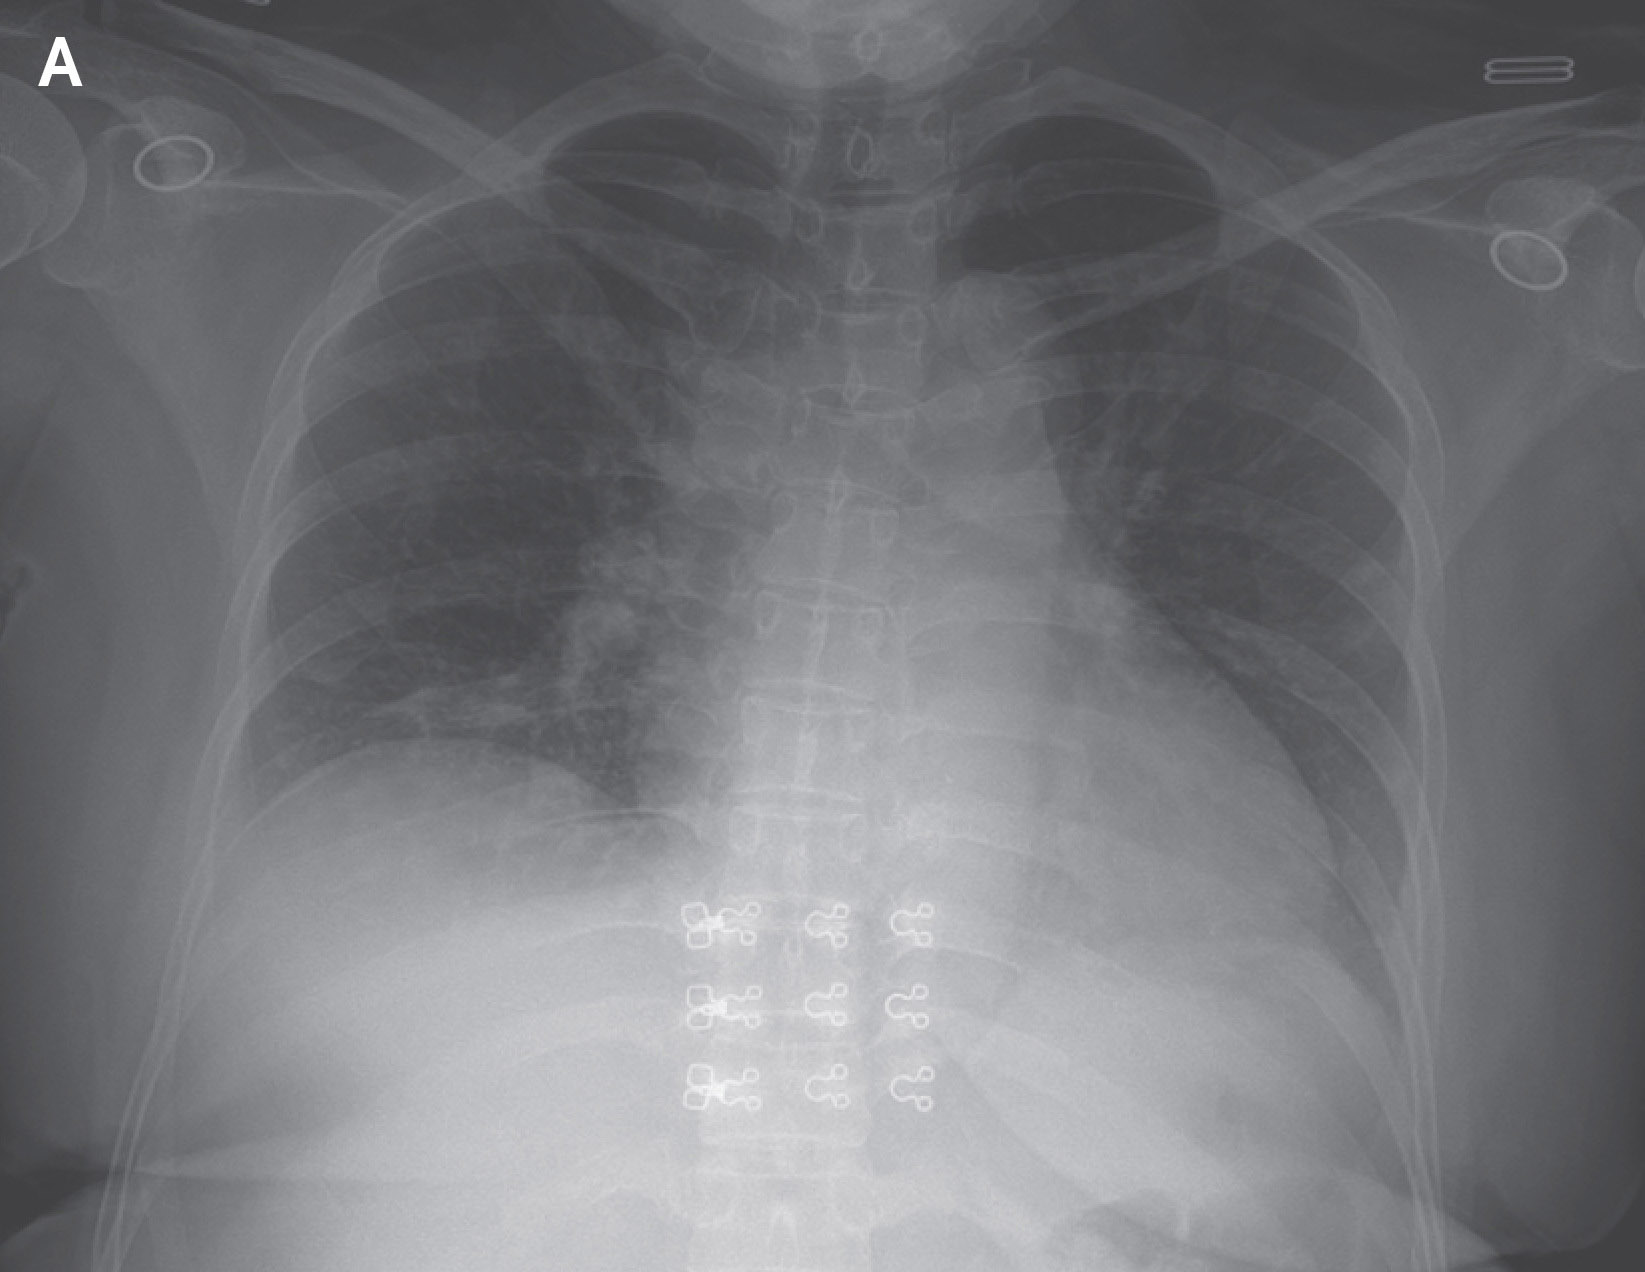Mildw: (963, 97, 1413, 1021), (231, 105, 762, 821)
